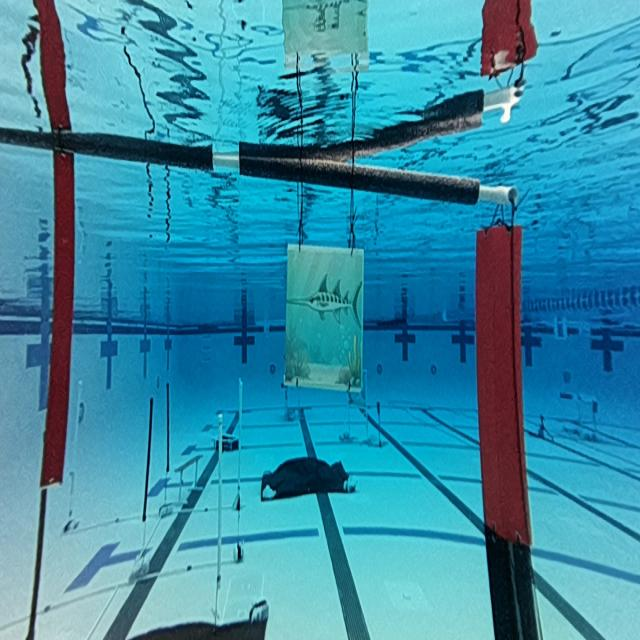pointed_nose: (284, 237, 364, 391)
